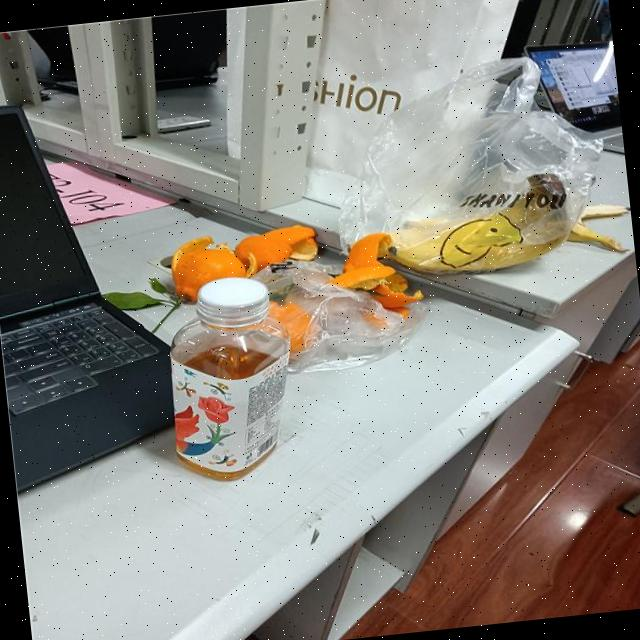orange-peel: (328, 231, 438, 349), (236, 207, 332, 281), (164, 220, 234, 302)
